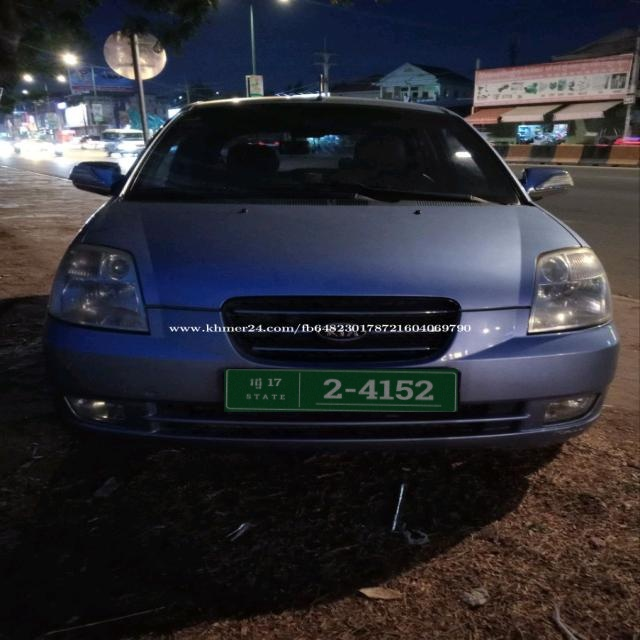Plate Number: (224, 370, 458, 412)
